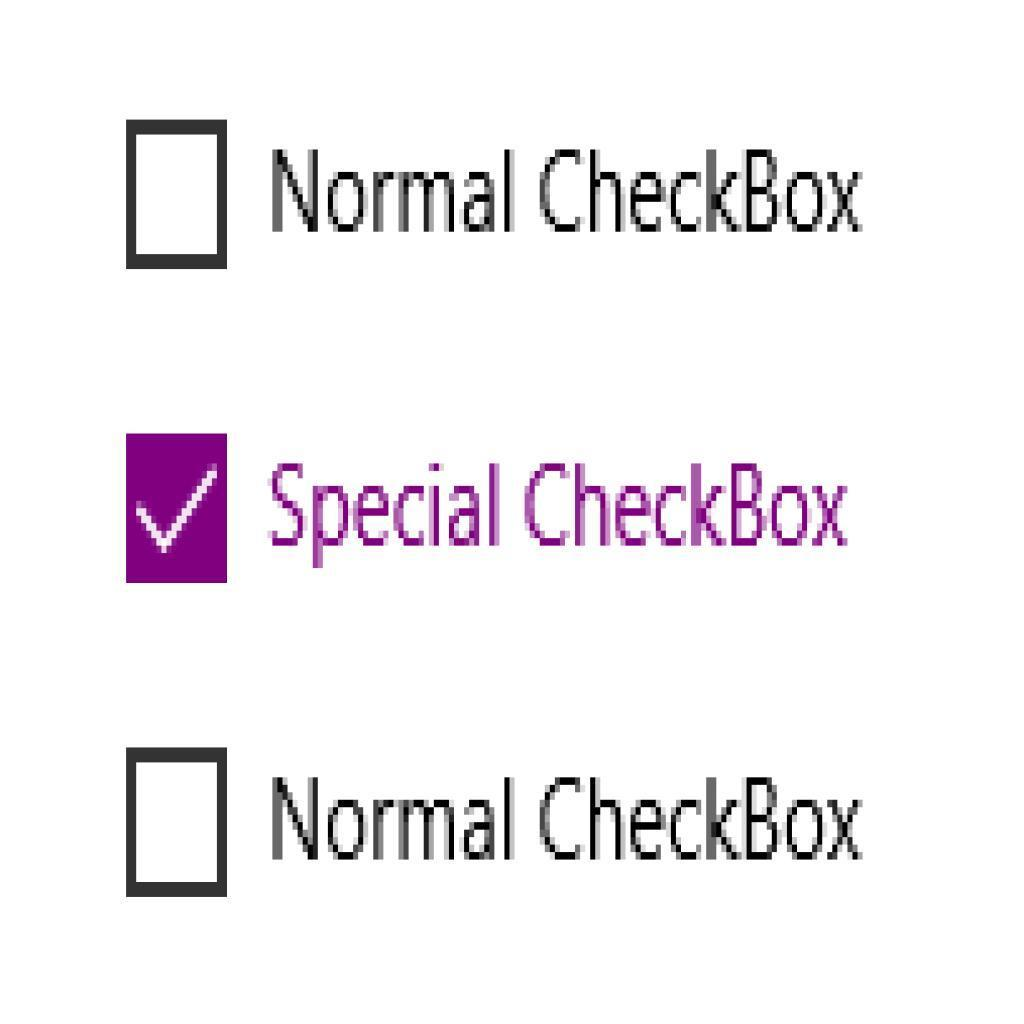checkbox: (126, 121, 229, 270), (127, 435, 230, 582), (127, 749, 228, 897)
label: (265, 455, 849, 569), (264, 771, 886, 873), (265, 144, 869, 240)
